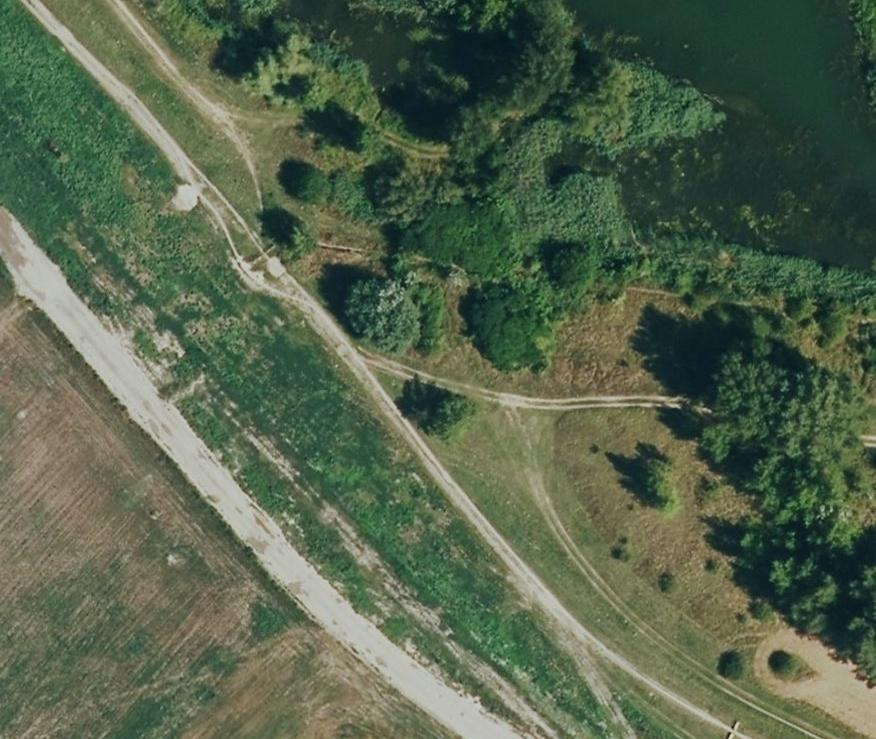field: (0, 0, 876, 737)
forest: (344, 0, 597, 368), (700, 340, 876, 680)
lake: (570, 0, 876, 269)
